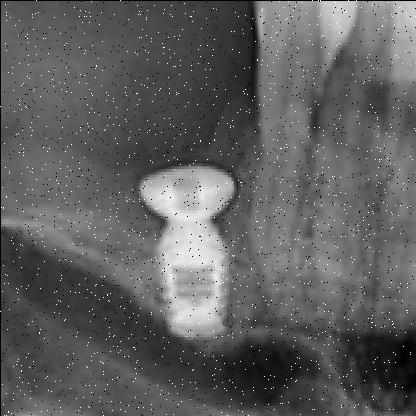Bicon: (140, 222, 243, 348)
